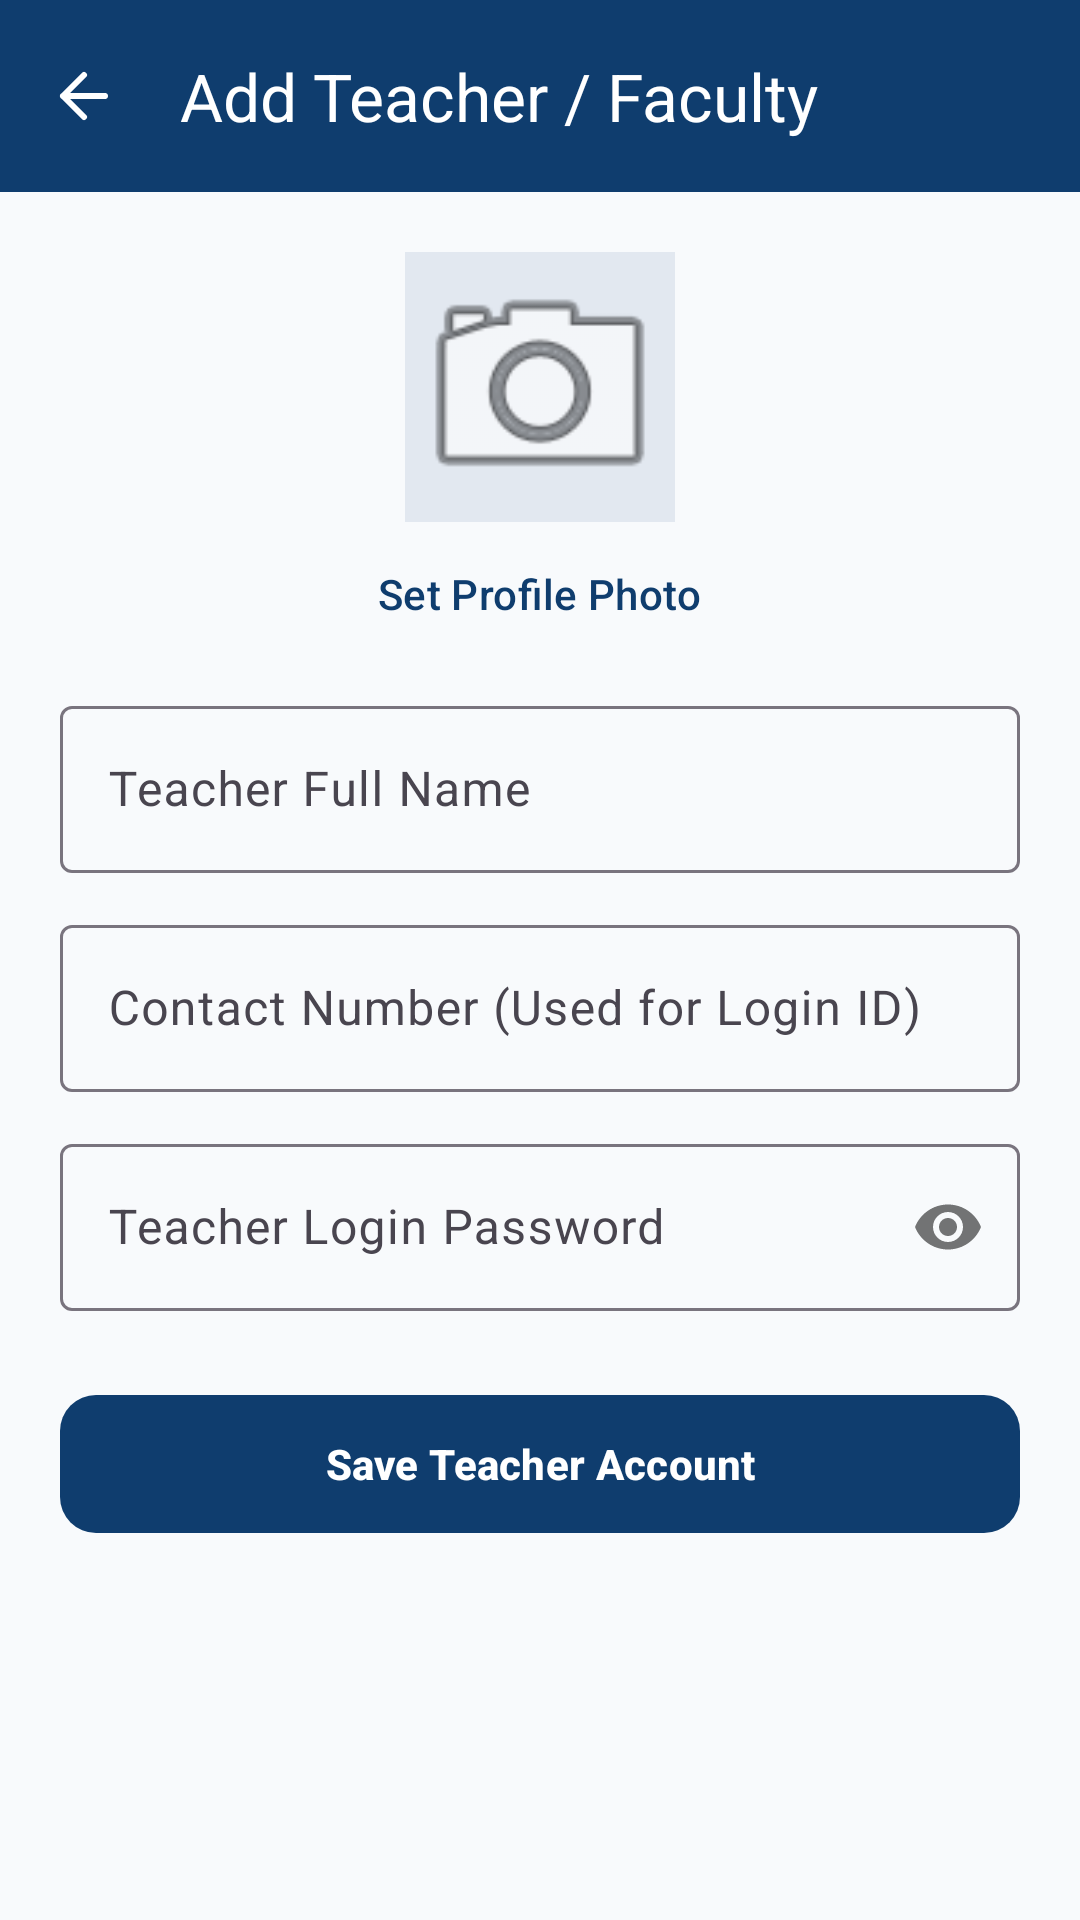

Icons on this 1080*1920 Android screen, each with the point to tap as (x,y):
camera: (540,387)
